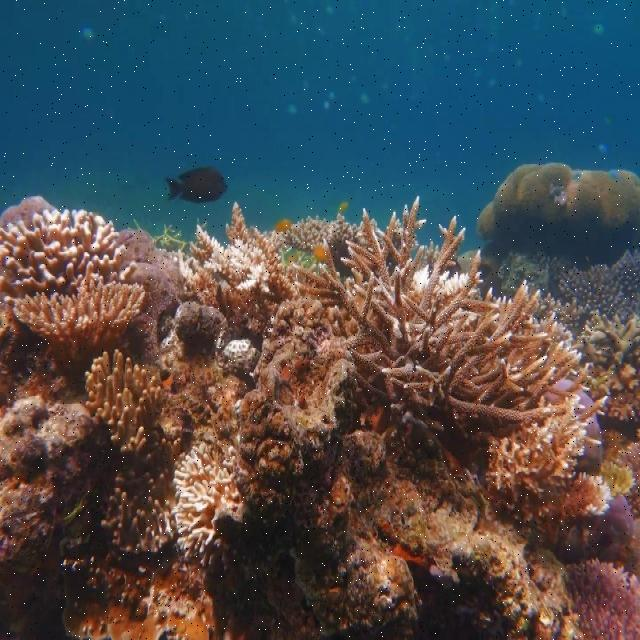fish: (163, 167, 228, 202), (312, 245, 328, 260), (336, 202, 348, 213)
reefs: (0, 162, 639, 638)
